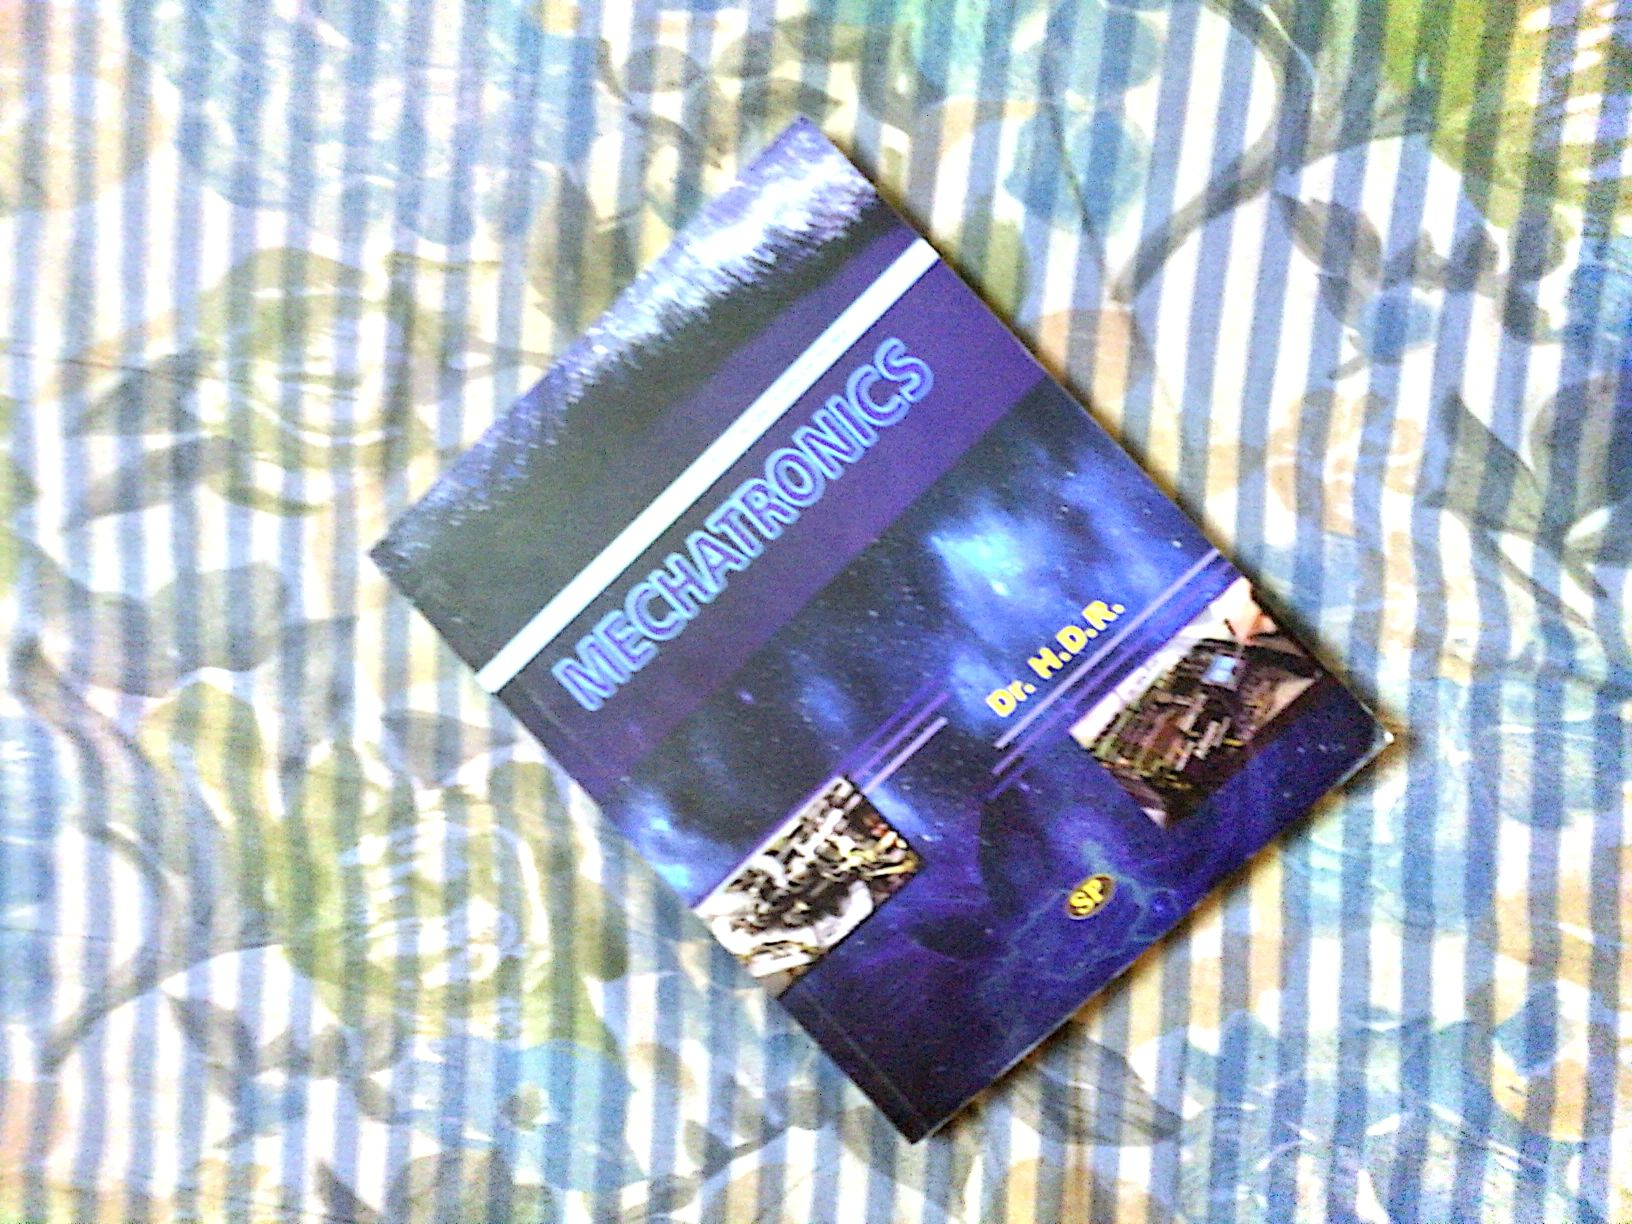mechatronics: (389, 144, 1363, 1061)
